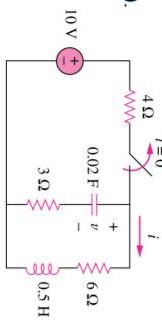Capacitor: (78, 179, 108, 222)
